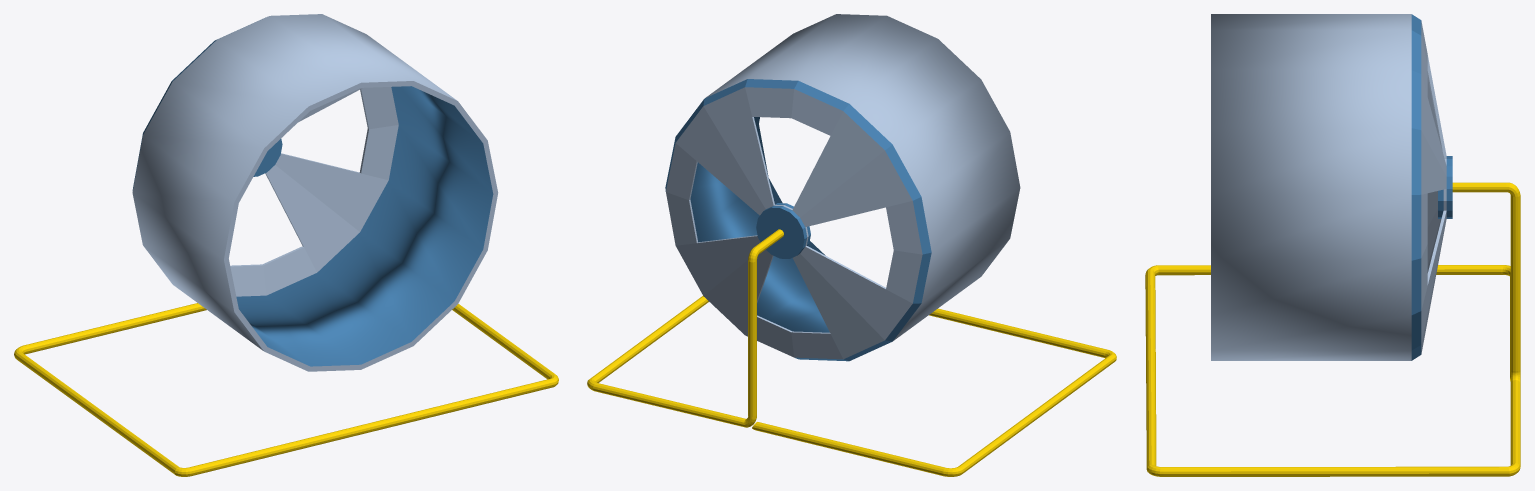
File: wheel.fbx
3 views of the same model, side by side, from view 1: azimuth 30°, elevation 25°; view 2: azimuth 150°, elevation 25°; view 3: azimuth 270°, elevation 25° (orthographic). The views are drawn at different scales.
Parts seen in each view (by area): view 1: Roda, Suporte; view 2: Roda, Suporte; view 3: Roda, Suporte.
Part boxes in pixels (<box>): Roda: <box>132,14,498,371</box>; Suporte: <box>14,303,558,476</box>; Roda: <box>665,14,1020,361</box>; Suporte: <box>587,229,1116,476</box>; Roda: <box>1211,14,1452,360</box>; Suporte: <box>1145,182,1520,476</box>.
Bounding box in the file's own units: 975 × 783 × 749.
